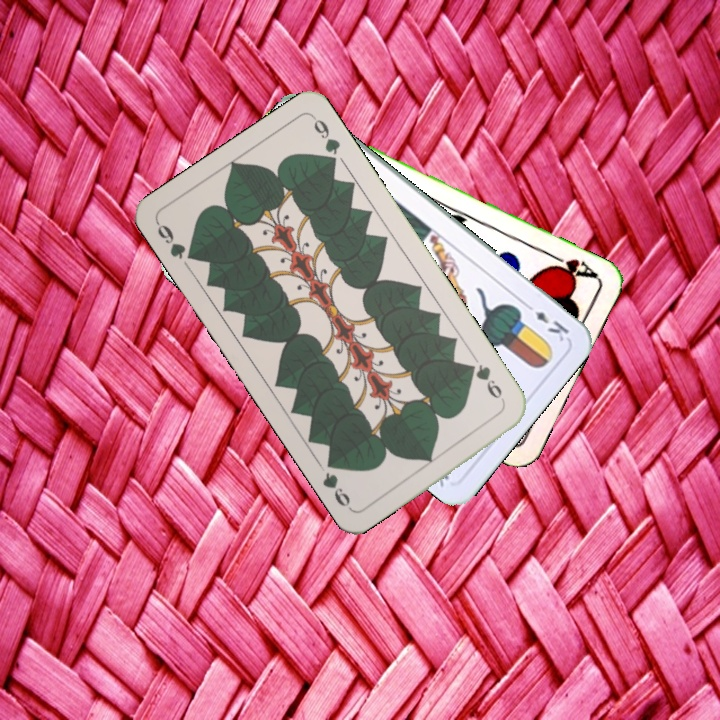EK: (520, 298, 572, 344)
G9: (152, 218, 200, 264), (463, 360, 508, 407)
HA: (544, 248, 600, 282)
